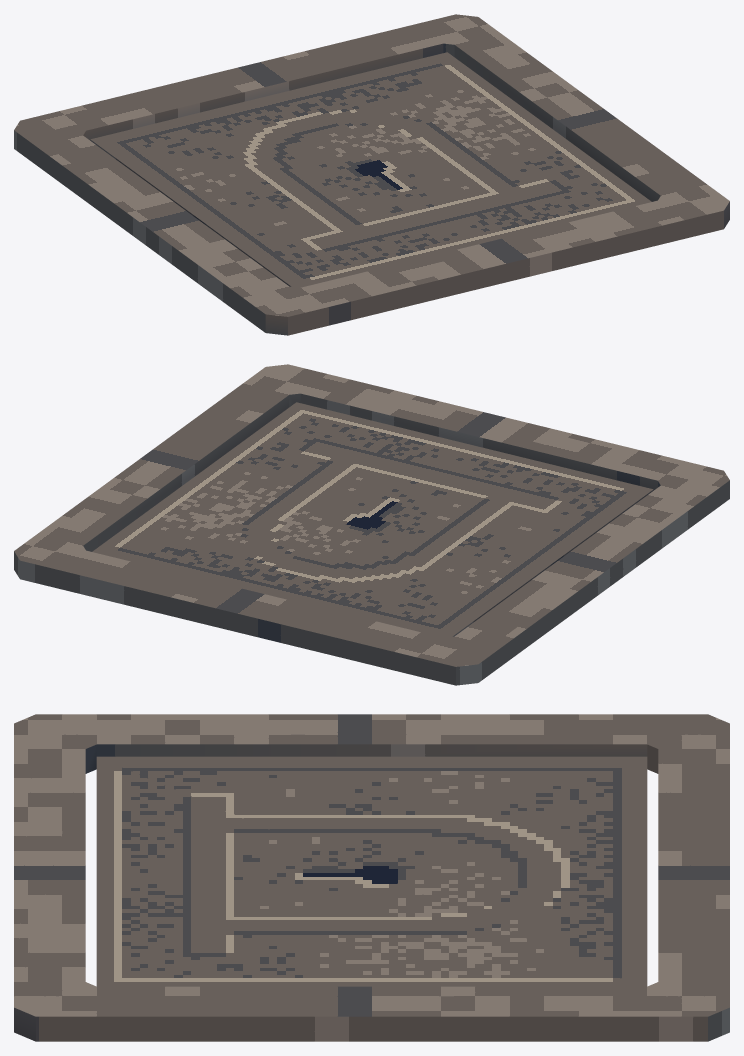
The model's file is dprop.plate__down.glb.
3 renders of one model, top to bottom at view 1: azimuth 30°, elevation 25°; view 2: azimuth 150°, elevation 25°; view 3: azimuth 270°, elevation 25°, orthographic. The views are drawn at different scales.
Parts seen in each view (by area): view 1: kit_slab, kit_frame; view 2: kit_slab, kit_frame; view 3: kit_slab, kit_frame.
Boxes of the visible parts, box(x1,y1,x2,y2) form: kit_slab: box(90, 52, 651, 287); kit_frame: box(14, 14, 729, 335); kit_slab: box(92, 402, 653, 637); kit_frame: box(14, 364, 729, 685); kit_slab: box(96, 756, 647, 986); kit_frame: box(14, 714, 729, 1041).
Size of the model in its own units: 1.3 by 0.05 by 1.3.
2 materials, 2 textured.
